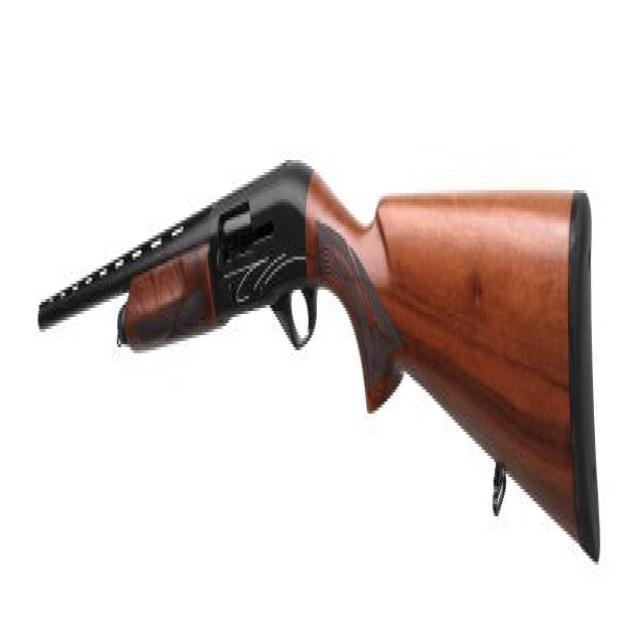rifle: (32, 157, 611, 568)
